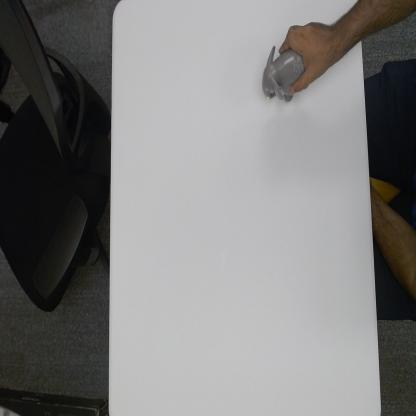Arm: (337, 0, 363, 61)
Elephant: (260, 40, 306, 107)
Hand: (279, 21, 336, 97)
